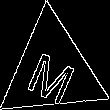M_NE: (24, 37, 81, 103)
